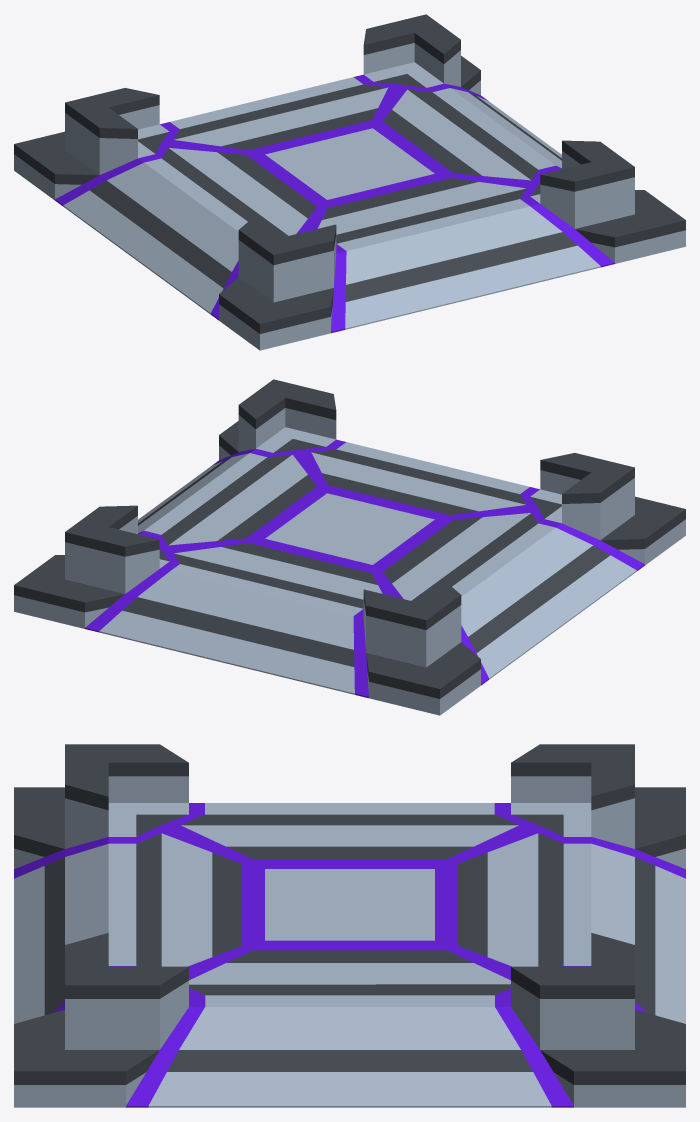
Rendered from Model_Obelisk_BuildSite.fbx.
3 renders of one model, top to bottom at view 1: azimuth 30°, elevation 25°; view 2: azimuth 150°, elevation 25°; view 3: azimuth 270°, elevation 25°, orthographic. The views are drawn at different scales.
Parts seen in each view (by area): view 1: Obelisk Build Site; view 2: Obelisk Build Site; view 3: Obelisk Build Site.
Part boxes in pixels (<box>): Obelisk Build Site: <box>14,14,685,350</box>; Obelisk Build Site: <box>14,379,685,715</box>; Obelisk Build Site: <box>14,744,685,1107</box>.
Size of the model in its own units: 3904 by 647 by 3904.
